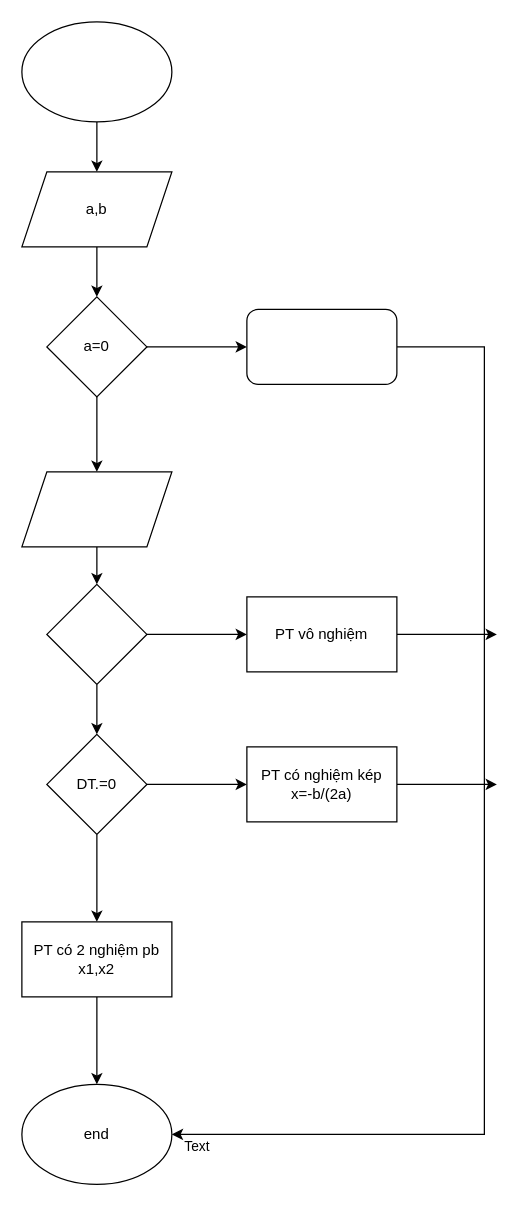
The diagram is 529 pixels wide and 1206 high, and some of its shapes have lost their labels. The centre of each missing label's shape, as x and y in pixels:
DT<0: pixel 96 633
DT=b^2-4ac: pixel 96 509
PT bậc 1: pixel 321 346
start: pixel 96 71
